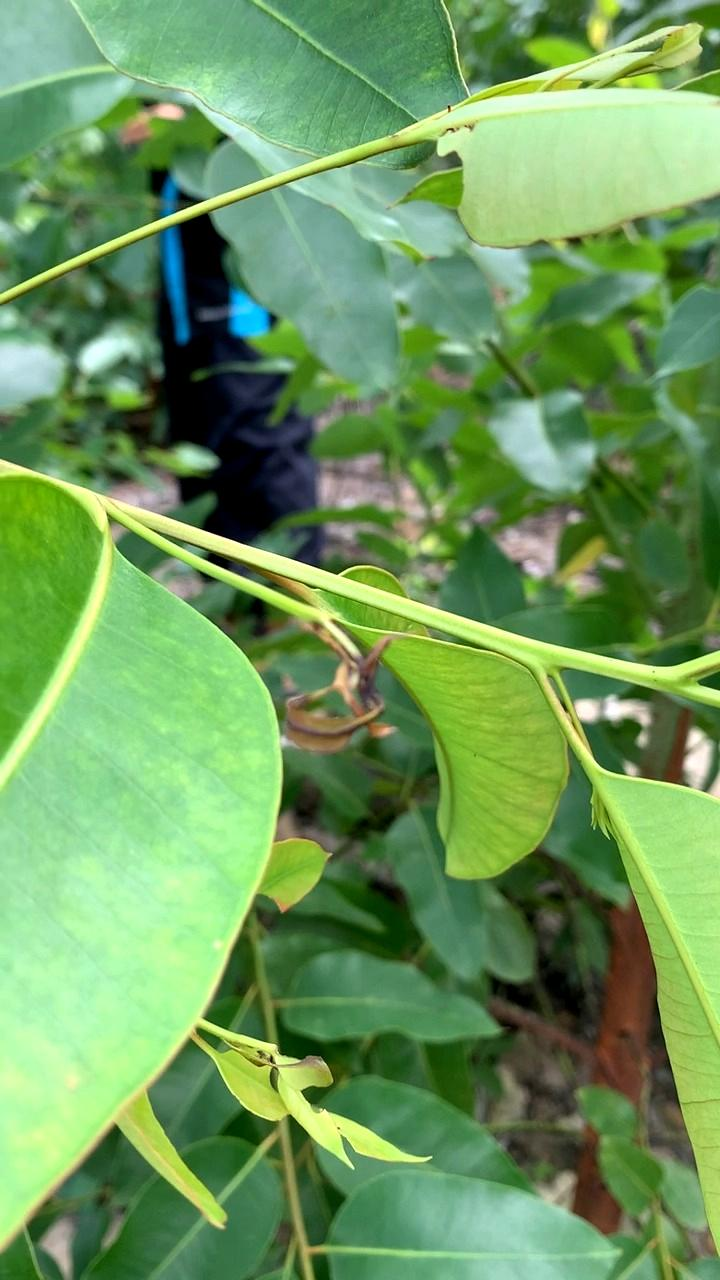Helopeltis-Withered Sprout: (258, 615, 413, 775)
